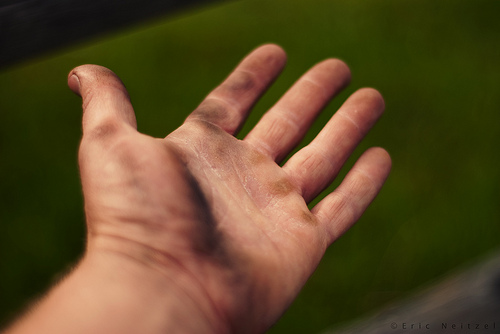palm: (134, 129, 309, 313)
